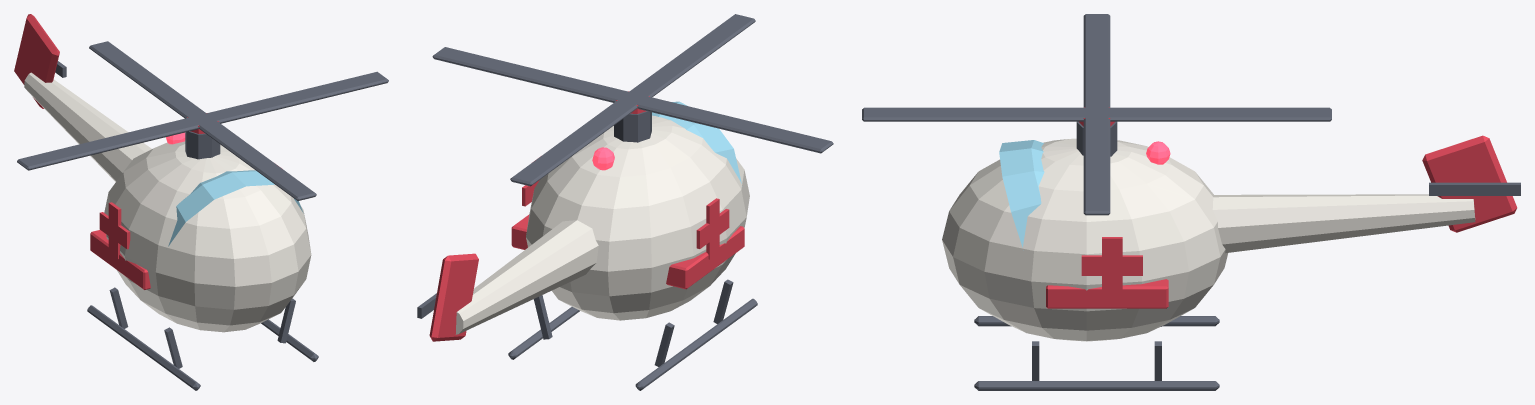
File: veh_air_ambulance.glb
3 renders of one model, left to right at view 1: azimuth 30°, elevation 25°; view 2: azimuth 150°, elevation 25°; view 3: azimuth 270°, elevation 25°, orthographic. The views are drawn at different scales.
Parts seen in each view (by area): view 1: veh_air_ambulance, rotor; view 2: veh_air_ambulance, rotor, siren_l; view 3: veh_air_ambulance, rotor, tail_rotor.
Boxes of the visible parts, x1,y1,x2,y2 form: veh_air_ambulance: [14, 14, 318, 390]; rotor: [17, 41, 388, 200]; veh_air_ambulance: [429, 101, 757, 390]; rotor: [432, 14, 833, 186]; siren_l: [592, 147, 614, 170]; veh_air_ambulance: [942, 121, 1517, 390]; rotor: [862, 14, 1331, 215]; tail_rotor: [1429, 182, 1520, 195].
Bounding box in the file's own units: 4.6 × 2.66 × 6.45.
